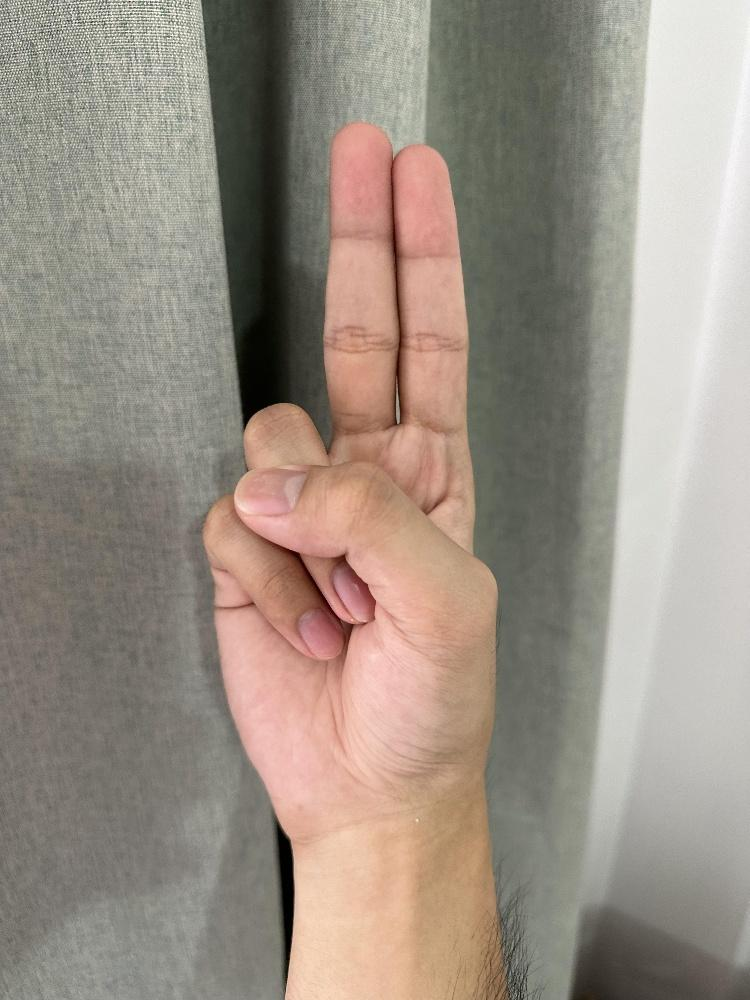u: (200, 118, 499, 840)
